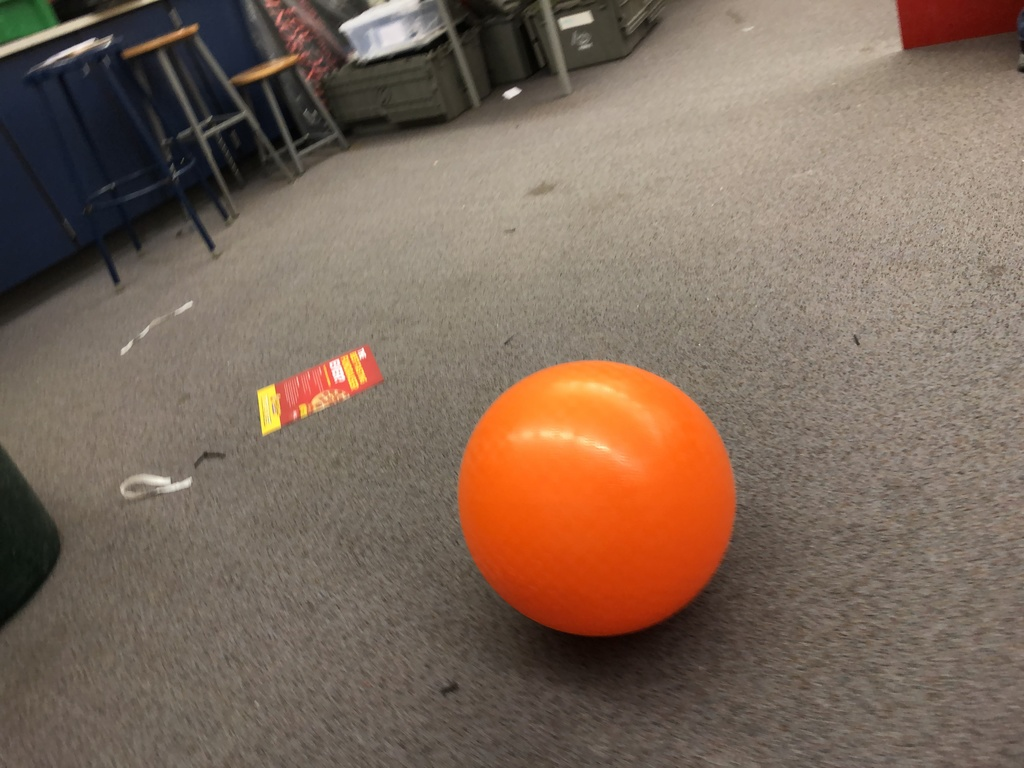cargo: (455, 353, 750, 650)
